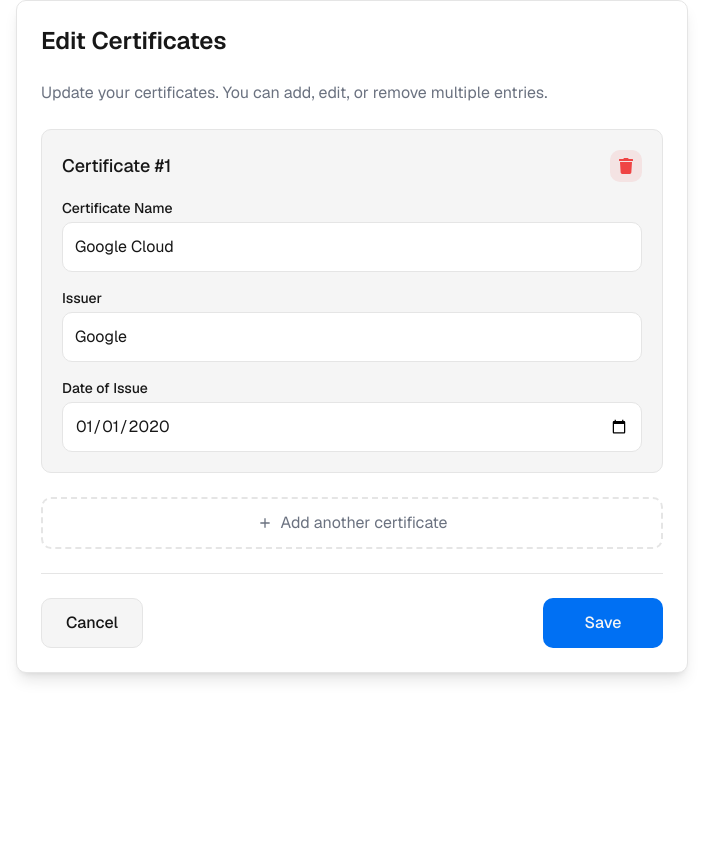
Test: EditCertificatesForm Component › Zarządzanie formularzem (FieldArray) › powinien dodać nowe pole po kliknięciu przycisku 'Add another certificate'
Click the button "Add another certificate" at (352, 523), box [41,497,663,549]
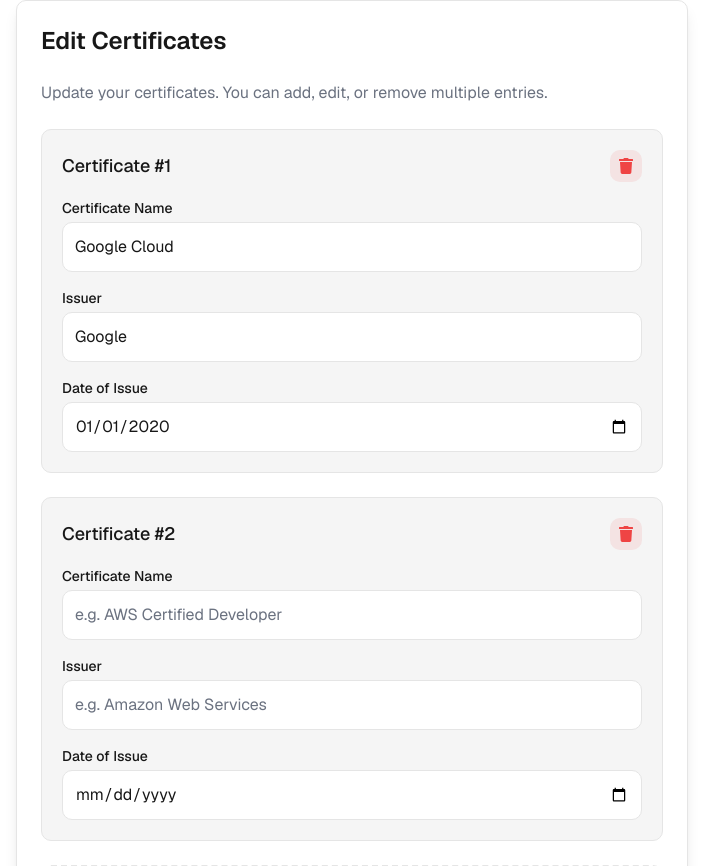
Check: the heading "Certificate #1" is shown, box [62,152,171,180]
Check: the heading "Certificate #2" is shown, box [62,520,175,548]
